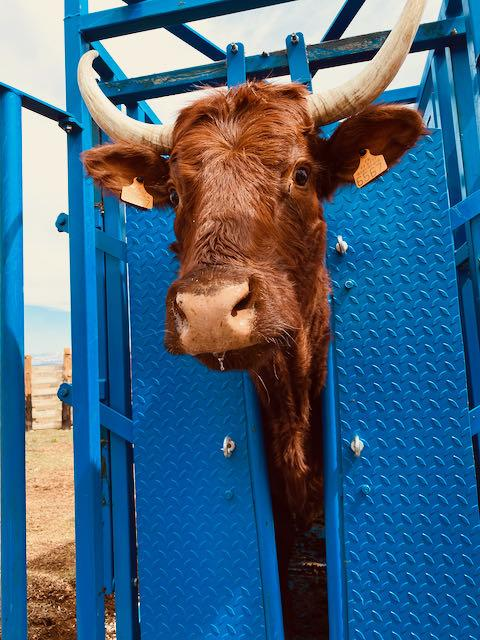muzzles: (159, 284, 278, 362)
